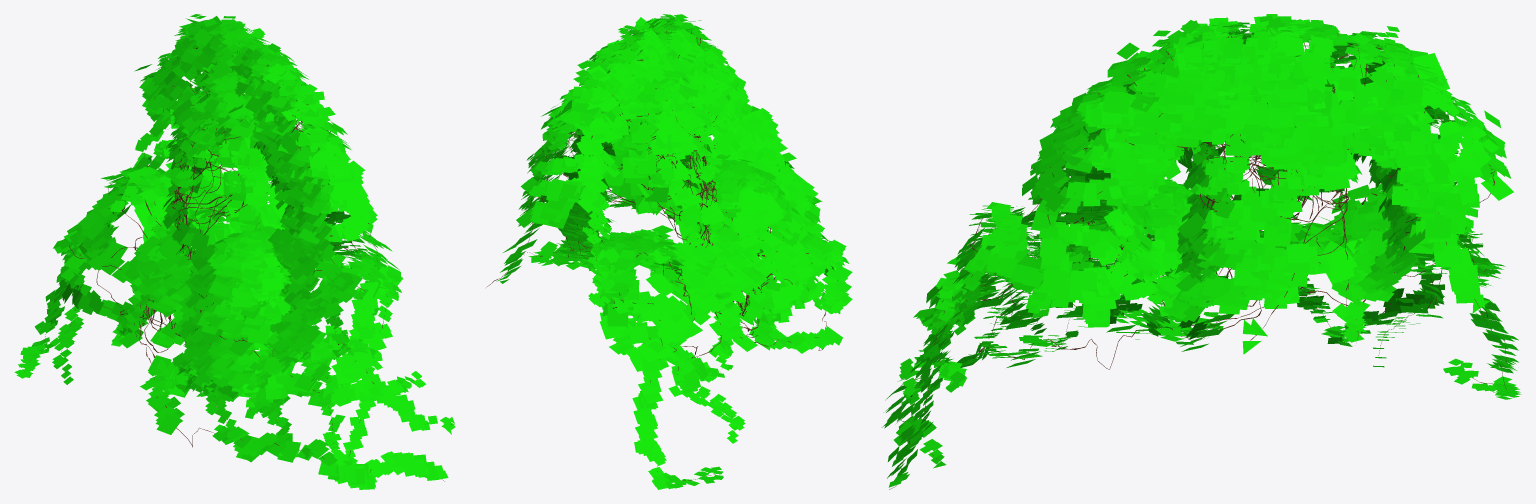
The model's file is kopfstatue_IVY.fbx.
The picture shows the model from 3 angles, left to right: view 1: azimuth 30°, elevation 25°; view 2: azimuth 150°, elevation 25°; view 3: azimuth 270°, elevation 25°; orthographic projection. The views are drawn at different scales.
Visible parts, largest first — view 1: IvyLeaf, IVY_Curve; view 2: IvyLeaf, IVY_Curve; view 3: IvyLeaf, IVY_Curve.
Boxes of the visible parts, bbox=[...] form: IvyLeaf: bbox=[14, 14, 455, 489]; IVY_Curve: bbox=[30, 27, 451, 481]; IvyLeaf: bbox=[496, 14, 852, 489]; IVY_Curve: bbox=[486, 30, 837, 480]; IvyLeaf: bbox=[881, 14, 1521, 487]; IVY_Curve: bbox=[889, 28, 1506, 489].
Bounding box in the file's own units: 148 × 213 × 268.
